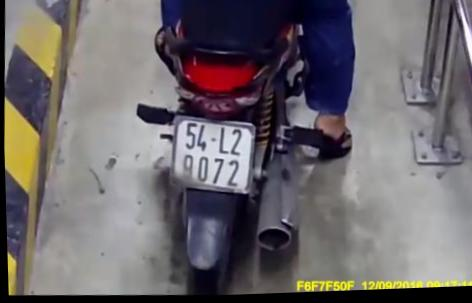LP: (165, 113, 257, 199)
